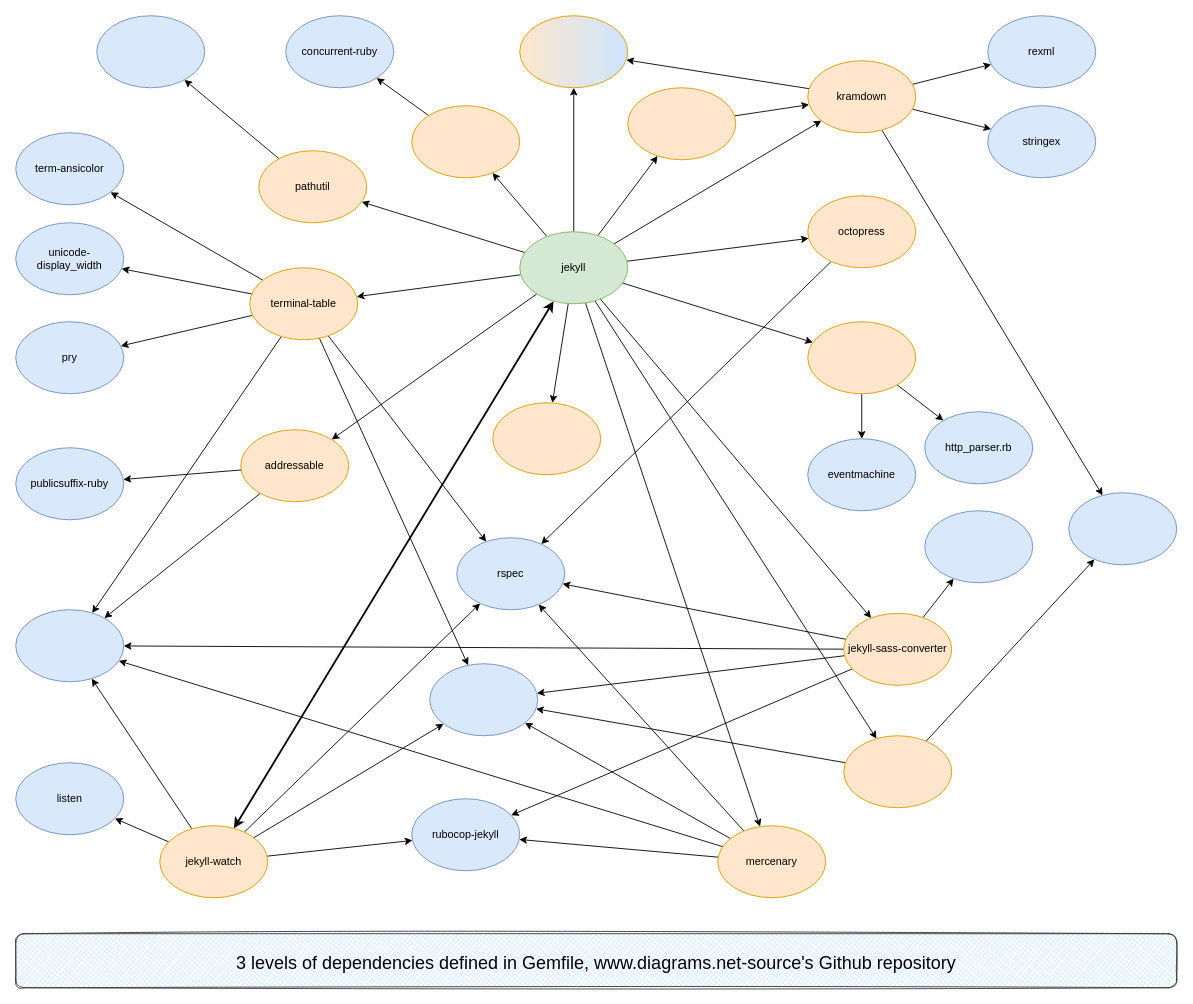
This 1193x1004 diagram has some shape labels left out. The box of each missing label's shape, as (x1, y1, x2, y2) in pixels:
em-websocket: (807, 321, 916, 394)
forwardable-extended: (96, 15, 205, 88)
kramdown-parser-gfm: (627, 87, 736, 160)
liquid: (843, 735, 952, 808)
minitest: (1068, 492, 1177, 565)
rake: (429, 663, 538, 736)
rouge: (519, 15, 628, 88)
ruby-gems: (15, 609, 124, 682)
ruby-i18n: (411, 105, 520, 178)
safe-yaml: (492, 402, 601, 475)
sassc-ruby: (924, 510, 1033, 583)
